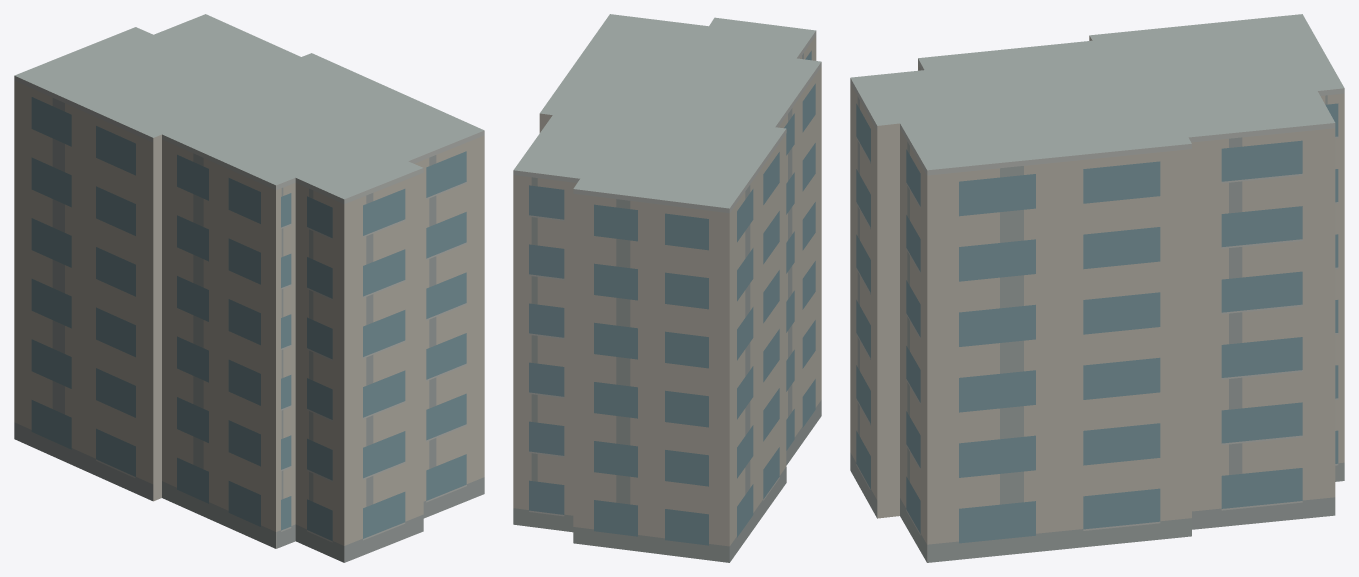
Rendered from survey-upis-32762852.glb.
3 views of the same model, side by side, from view 1: azimuth 30°, elevation 25°; view 2: azimuth 150°, elevation 25°; view 3: azimuth 270°, elevation 25° (orthographic). The views are drawn at different scales.
Parts seen in each view (by area): view 1: survey-upis-32762852.tmp; view 2: survey-upis-32762852.tmp; view 3: survey-upis-32762852.tmp.
Boxes of the visible parts, x1,y1,x2,y2 form: survey-upis-32762852.tmp: (14,14,484,562); survey-upis-32762852.tmp: (513,14,821,562); survey-upis-32762852.tmp: (850,14,1344,562).
Bounding box in the file's own units: 15.63 × 18.3 × 20.9.
